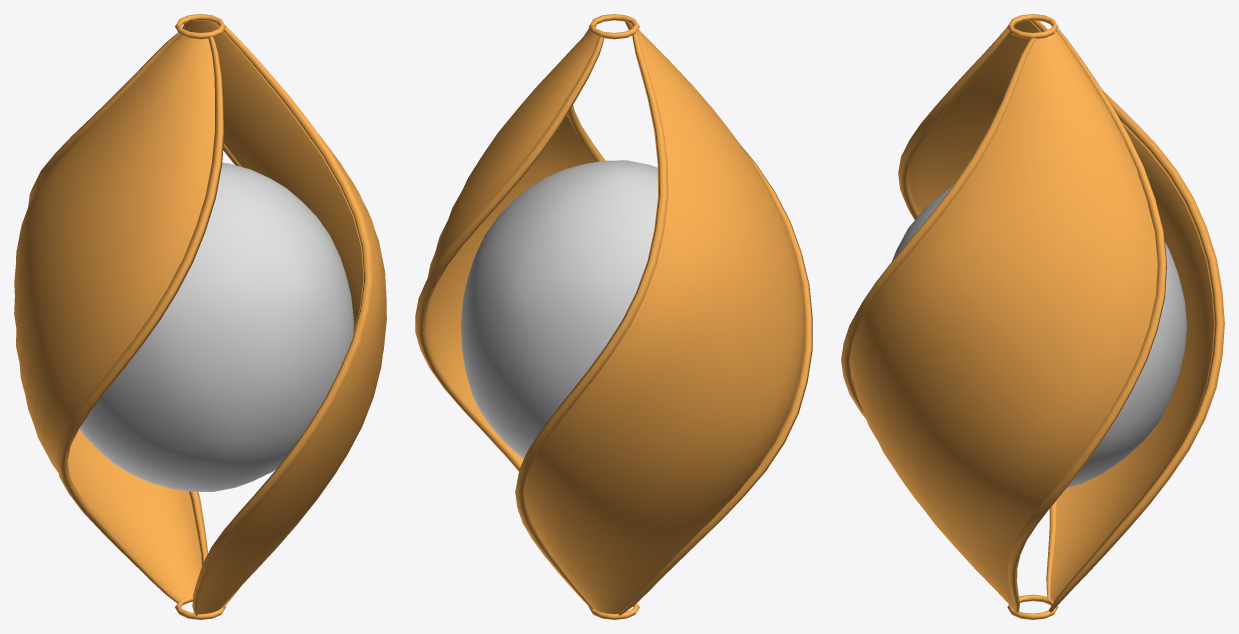
File: AetherealShard.fbx
3 renders of one model, left to right at view 1: azimuth 30°, elevation 25°; view 2: azimuth 150°, elevation 25°; view 3: azimuth 270°, elevation 25°, orthographic.
Visible parts, largest first — view 1: AetherealShard; view 2: AetherealShard; view 3: AetherealShard.
Boxes of the visible parts, <box> form: AetherealShard: <box>14,14,386,619</box>; AetherealShard: <box>415,14,812,619</box>; AetherealShard: <box>841,14,1224,619</box>.
Size of the model in its own units: 8.12 by 13.79 by 8.19.
